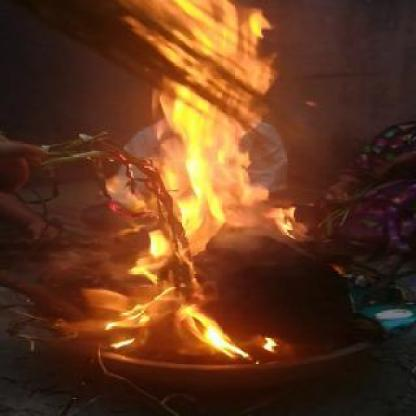Fire: (127, 0, 269, 246), (87, 254, 258, 361)
